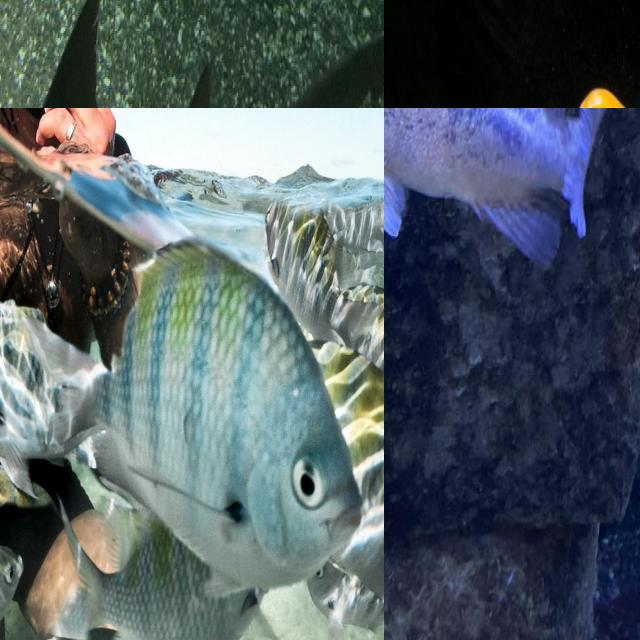fish: (0, 108, 281, 637), (0, 0, 384, 108), (384, 108, 628, 253), (408, 0, 640, 66)
